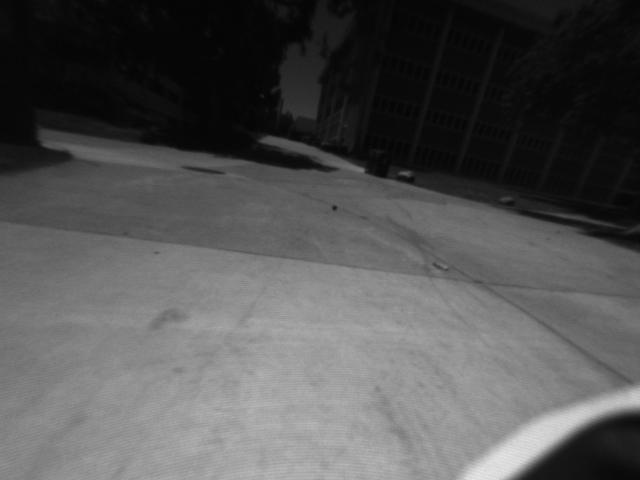dogtoy: (328, 198, 343, 216)
